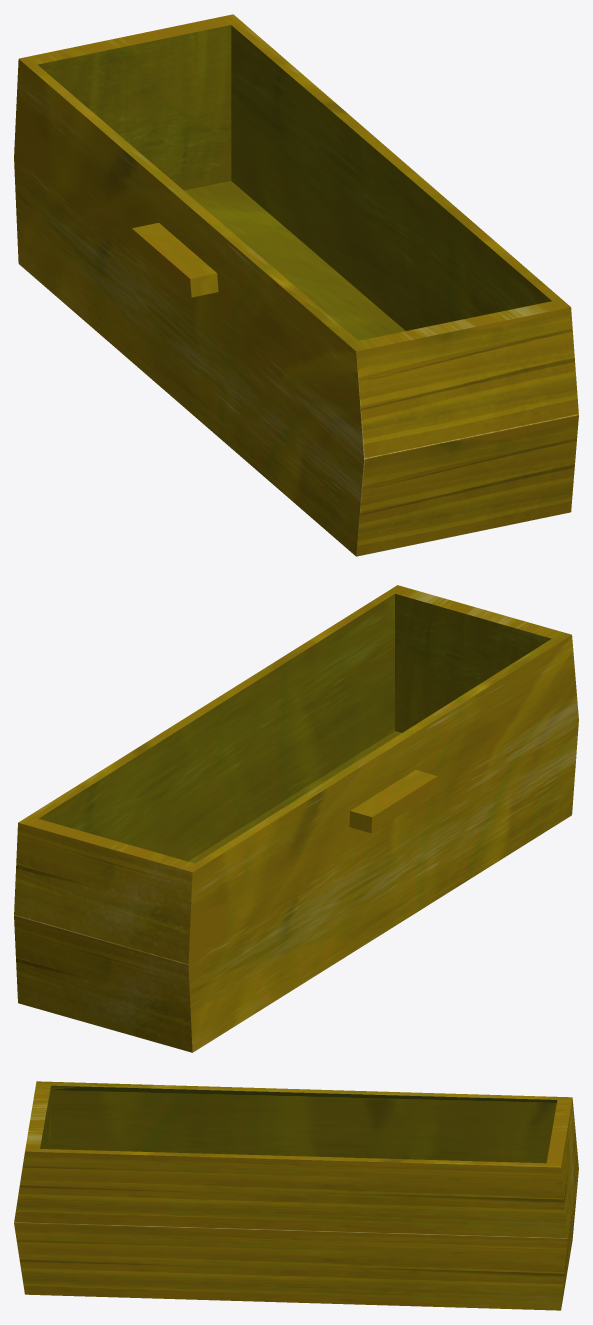
File: EscritorioL_cajon2.glb
The picture shows the model from 3 angles, top to bottom: view 1: azimuth 30°, elevation 25°; view 2: azimuth 150°, elevation 25°; view 3: azimuth 270°, elevation 25°; orthographic projection. The views are drawn at different scales.
Visible parts, largest first — view 1: E_escritorioL_cajon2; view 2: E_escritorioL_cajon2; view 3: E_escritorioL_cajon2.
Boxes of the visible parts, x1=… form: E_escritorioL_cajon2: x1=14, y1=14, x2=578, y2=556; E_escritorioL_cajon2: x1=14, y1=585, x2=578, y2=1052; E_escritorioL_cajon2: x1=14, y1=1081, x2=578, y2=1310.
Size of the model in its own units: 1.59 by 1.2 by 4.3.
Materials: 1 (1 with a texture image).
